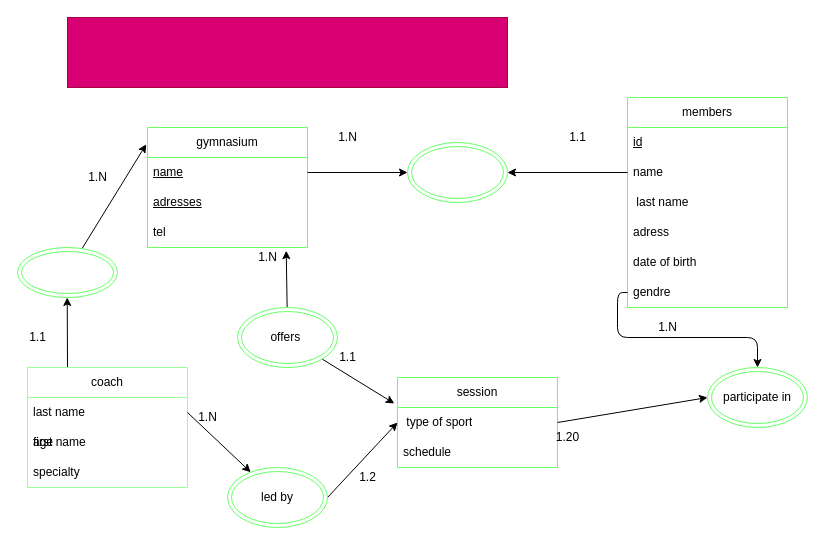
This 825x545 diagram has some shape labels left out. The shapes that lost their labels are listed below. From the top down, each one's centre as x and y in pixels, then its label:
At pixel 287 52: "diagramme gym".
At pixel 457 172: "registre".
At pixel 67 272: "employes".
